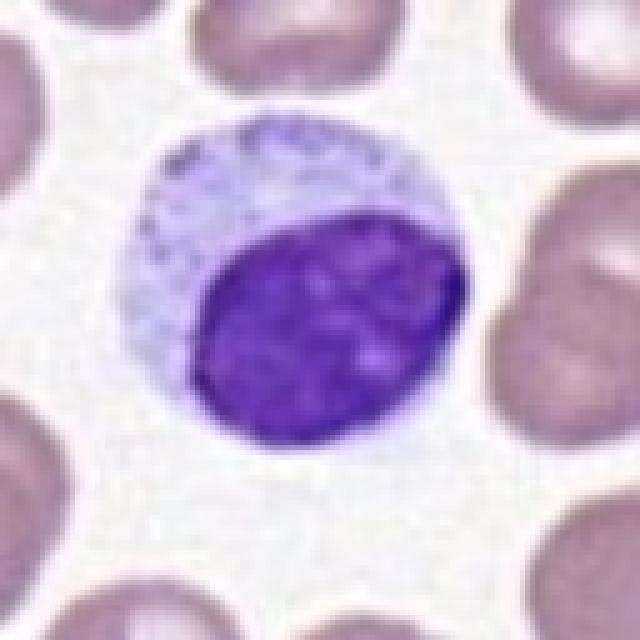lympho: (115, 104, 469, 455)
